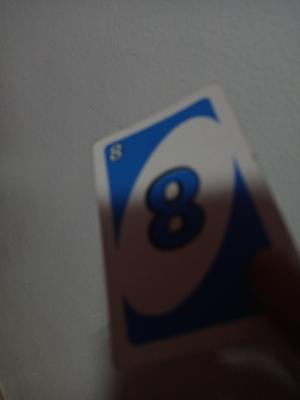blue: (107, 141, 243, 305)
